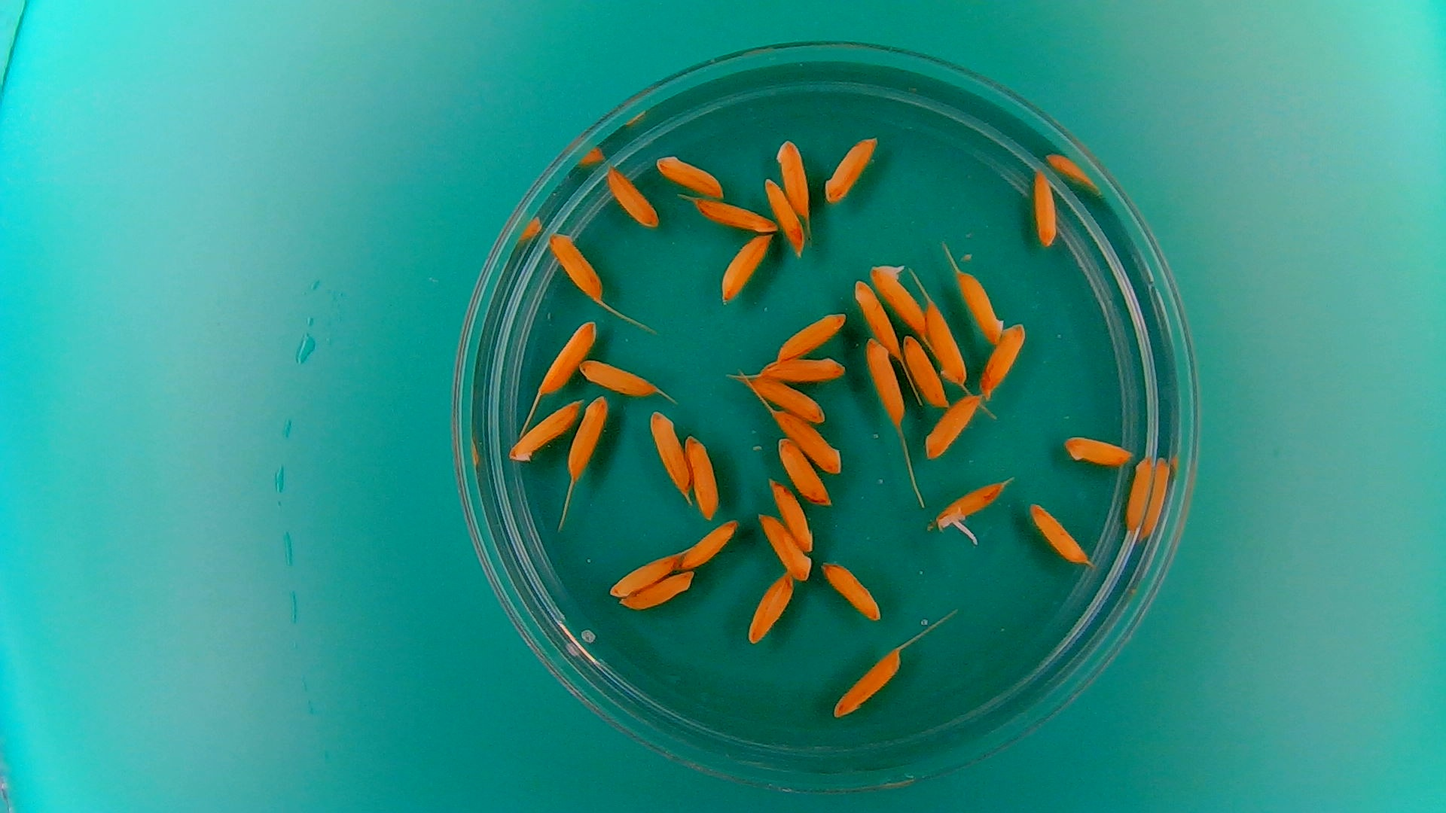no: (830, 644, 905, 721), (649, 147, 731, 212), (506, 396, 584, 464), (534, 318, 598, 396), (771, 409, 844, 475), (545, 229, 606, 305), (1027, 500, 1093, 568), (819, 557, 885, 623), (819, 133, 879, 203), (755, 510, 813, 582), (646, 407, 691, 499), (953, 267, 1005, 346), (978, 320, 1028, 401), (924, 296, 969, 386), (774, 436, 831, 507), (718, 232, 774, 304), (852, 277, 901, 358), (566, 392, 611, 480), (745, 570, 797, 646), (923, 391, 981, 459), (862, 336, 906, 425), (602, 162, 659, 230), (775, 310, 848, 363), (746, 376, 827, 423), (767, 476, 816, 553), (676, 516, 742, 571), (762, 175, 807, 255), (606, 551, 682, 598), (901, 333, 948, 409), (618, 569, 697, 612), (683, 433, 722, 520), (690, 196, 779, 234), (773, 134, 813, 217), (576, 357, 659, 397), (757, 354, 847, 385), (1123, 452, 1156, 535), (1060, 432, 1135, 468), (1028, 166, 1060, 249)
yes: (870, 259, 929, 336), (932, 477, 1006, 531)
